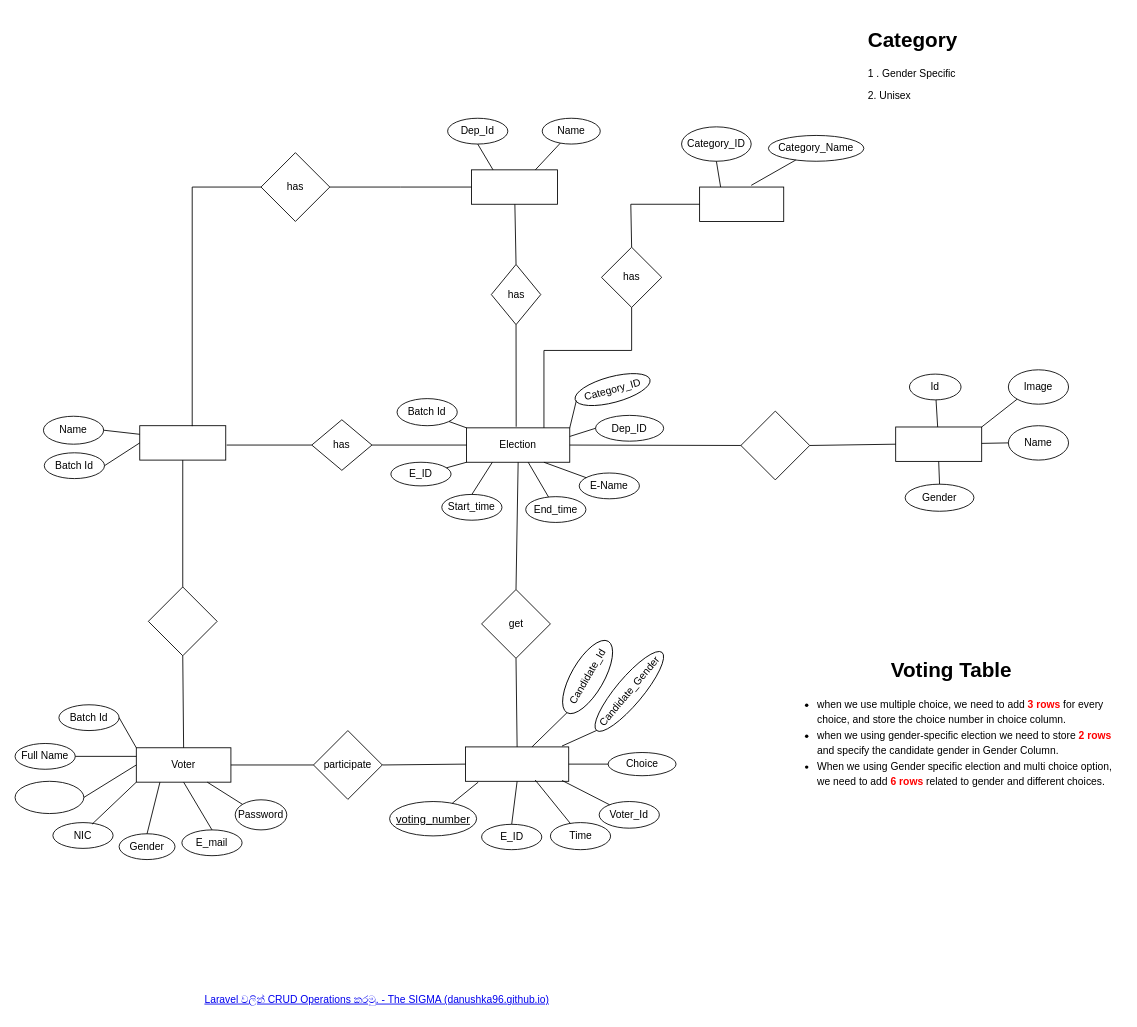
Some shapes in this 1137 by 1027 pixel diagram are drawn without their labels. The shapes that lost their labels are listed below. From the top down, each one's centre as x and y in pixels, then its label:
At (x=514, y=186): "Department".
At (x=741, y=203): "Category".
At (x=182, y=442): "Batch".
At (x=775, y=445): "Register".
At (x=938, y=443): "Candidates".
At (x=182, y=621): "relate".
At (x=517, y=763): "Voting".
At (x=49, y=797): "Index Number".
